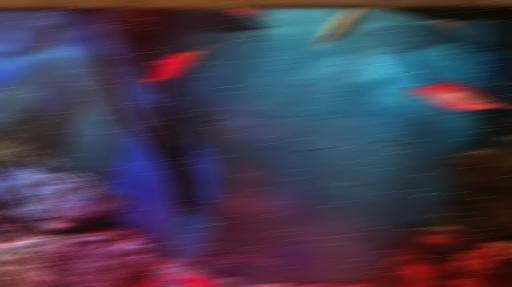Fish: (409, 77, 511, 110), (144, 45, 209, 92), (310, 8, 365, 50), (406, 263, 436, 286), (227, 8, 272, 22), (434, 19, 465, 35), (176, 274, 210, 286), (133, 10, 150, 23), (132, 281, 139, 286)
